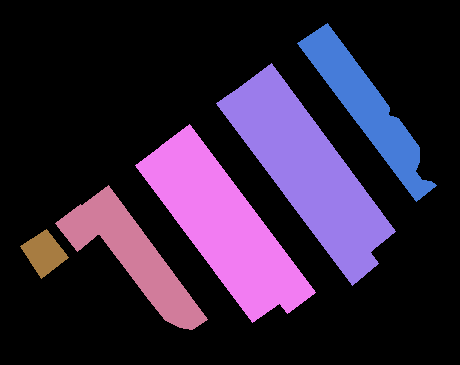parkingspot: (216, 83, 378, 285), (161, 124, 315, 313), (243, 63, 395, 253), (135, 144, 279, 322), (297, 23, 436, 201), (79, 185, 207, 329), (20, 229, 68, 278), (55, 204, 100, 251)
